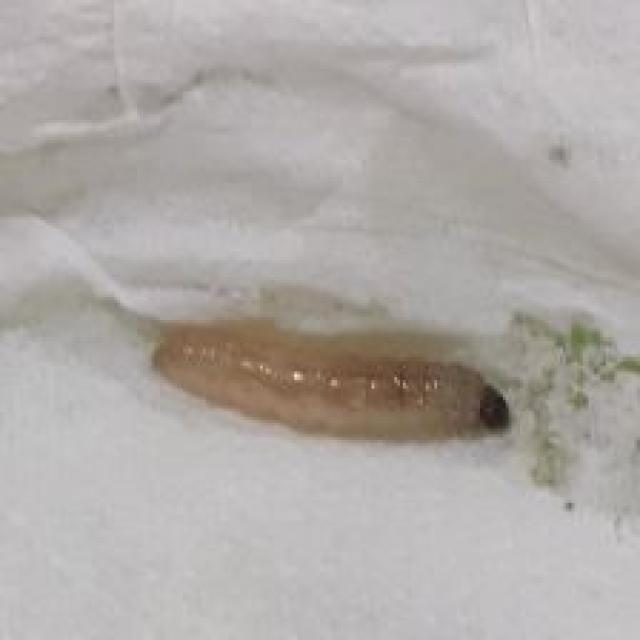white mucus: (140, 326, 523, 473)
